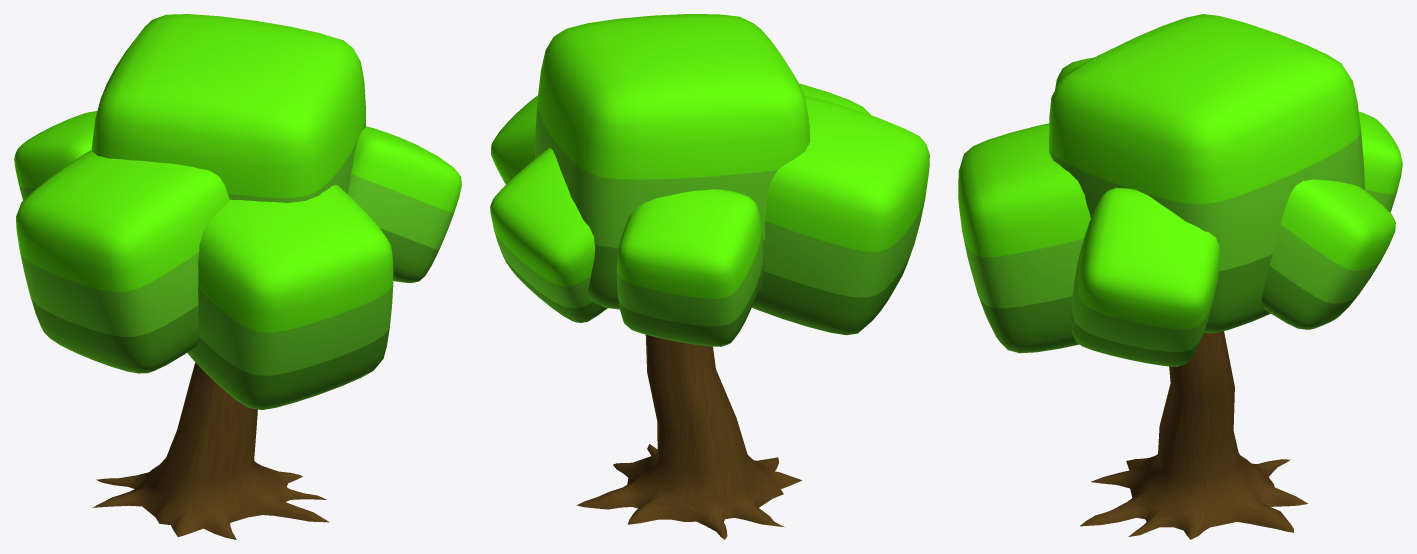
File: Tree.FBX
3 views of the same model, side by side, from view 1: azimuth 30°, elevation 25°; view 2: azimuth 150°, elevation 25°; view 3: azimuth 270°, elevation 25° (orthographic). The views are drawn at different scales.
Visible parts, largest first — view 1: TreeLeaves008, Tree_Trunk035; view 2: TreeLeaves008, Tree_Trunk035; view 3: TreeLeaves008, Tree_Trunk035.
Part boxes in pixels (x1,y1,x2,y2): TreeLeaves008: (14,14,461,409); Tree_Trunk035: (92,362,329,539); TreeLeaves008: (490,14,929,346); Tree_Trunk035: (577,334,801,539); TreeLeaves008: (958,14,1402,366); Tree_Trunk035: (1080,331,1307,539).
Size of the model in its own units: 39.5 by 41.4 by 36.75.
2 materials, 2 textured.
